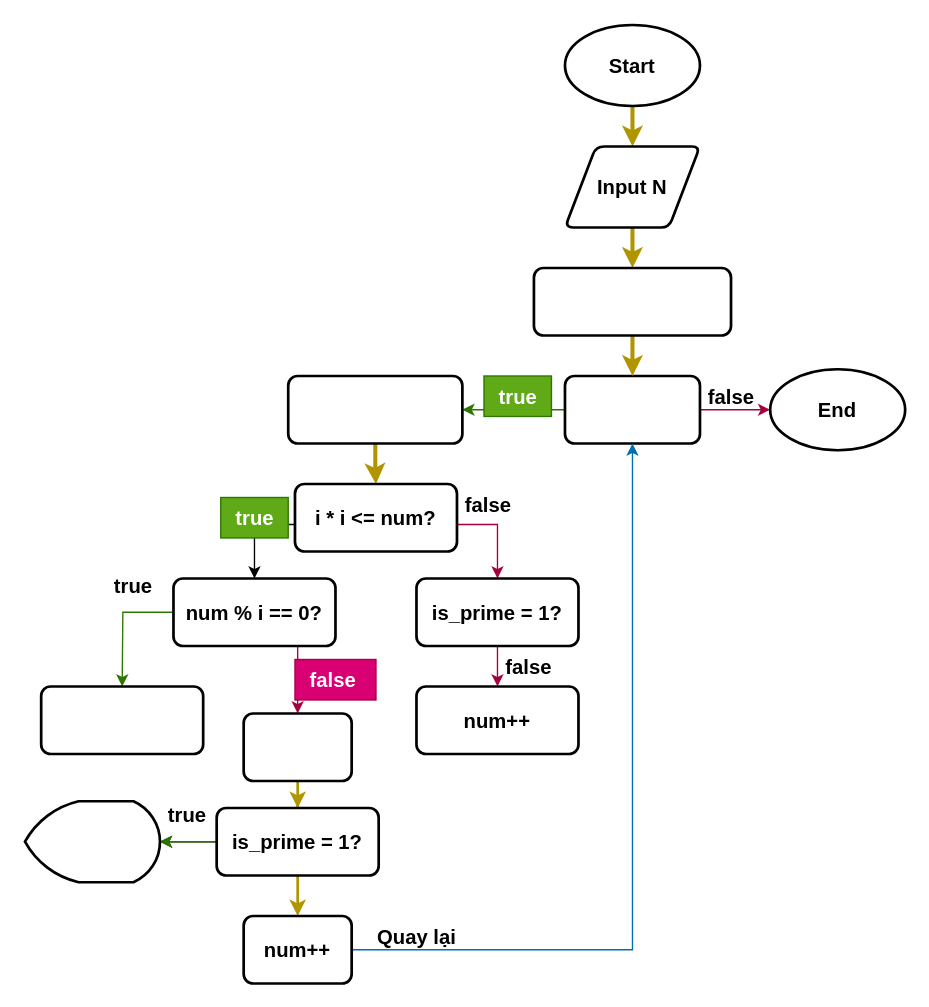
Image size: 929x1007. Some labels were removed from this diagram. The shapes that lost their labels are listed below. From the top down, each one's centre as x and y in pixels, then its label:
the point at 632,301: count = 0, num = 2
the point at 374,409: is_prime = 1, i = 2
the point at 632,409: count < n?
the point at 121,719: is_prime = 0
the point at 297,746: i++
the point at 92,841: Print num, count++
